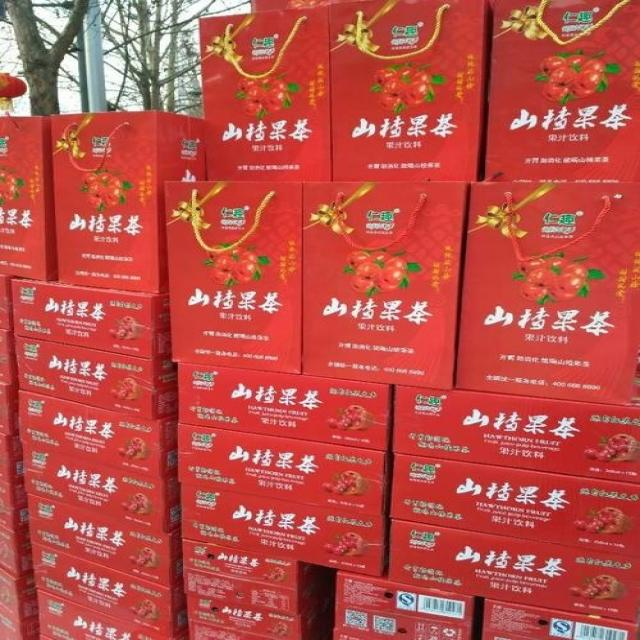box: (456, 180, 640, 407), (301, 180, 467, 390), (328, 0, 488, 182), (49, 110, 206, 294), (484, 0, 640, 180), (385, 518, 640, 623), (165, 180, 302, 374), (388, 453, 640, 557), (390, 385, 640, 483), (198, 4, 329, 180), (177, 422, 389, 516), (180, 484, 387, 579), (175, 363, 392, 452), (20, 390, 179, 481), (32, 544, 187, 637), (26, 495, 182, 585), (22, 447, 180, 533), (14, 336, 175, 419), (12, 277, 172, 359), (335, 570, 475, 640), (0, 116, 56, 282), (35, 590, 187, 640), (186, 590, 334, 640), (182, 539, 324, 589), (183, 568, 330, 616), (483, 599, 640, 640), (0, 569, 37, 624), (0, 526, 32, 578), (0, 479, 28, 530), (188, 623, 271, 640), (0, 609, 38, 640), (0, 433, 23, 484), (0, 381, 20, 437), (253, 0, 346, 12), (0, 327, 19, 384), (37, 620, 84, 640), (0, 272, 12, 329), (333, 630, 356, 640)
